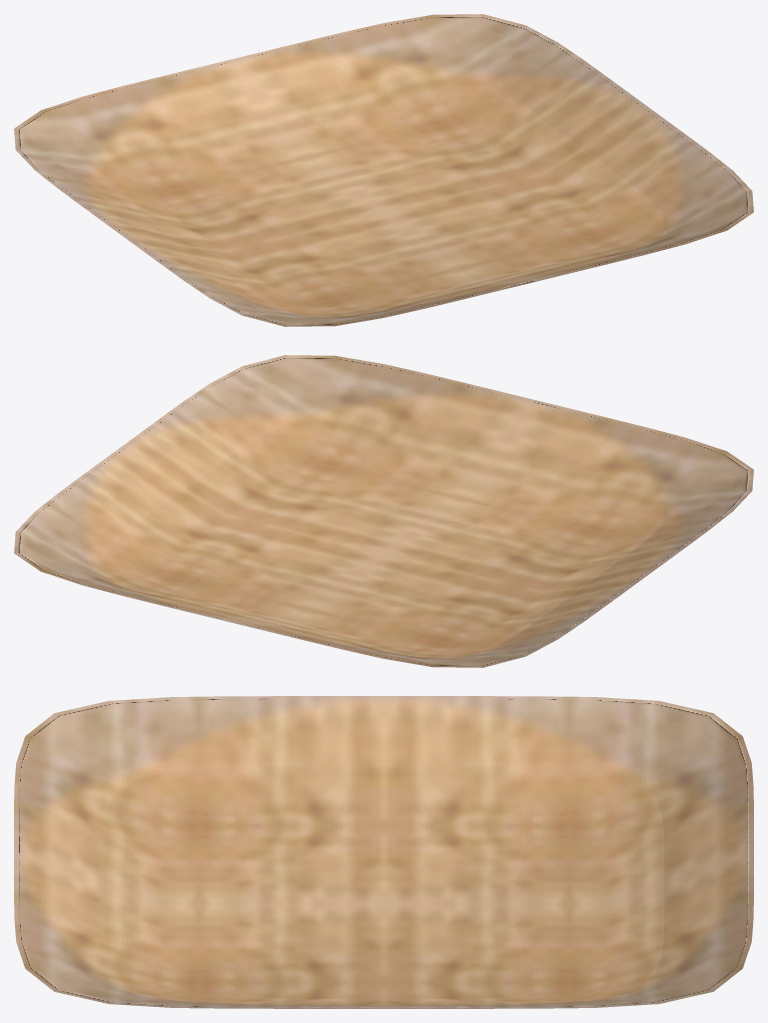
The model's file is EST-08.glb.
3 renders of one model, top to bottom at view 1: azimuth 30°, elevation 25°; view 2: azimuth 150°, elevation 25°; view 3: azimuth 270°, elevation 25°, orthographic. The views are drawn at different scales.
Size of the model in its own units: 0.24 by 0.022 by 0.24.
1 material, 1 textured.
